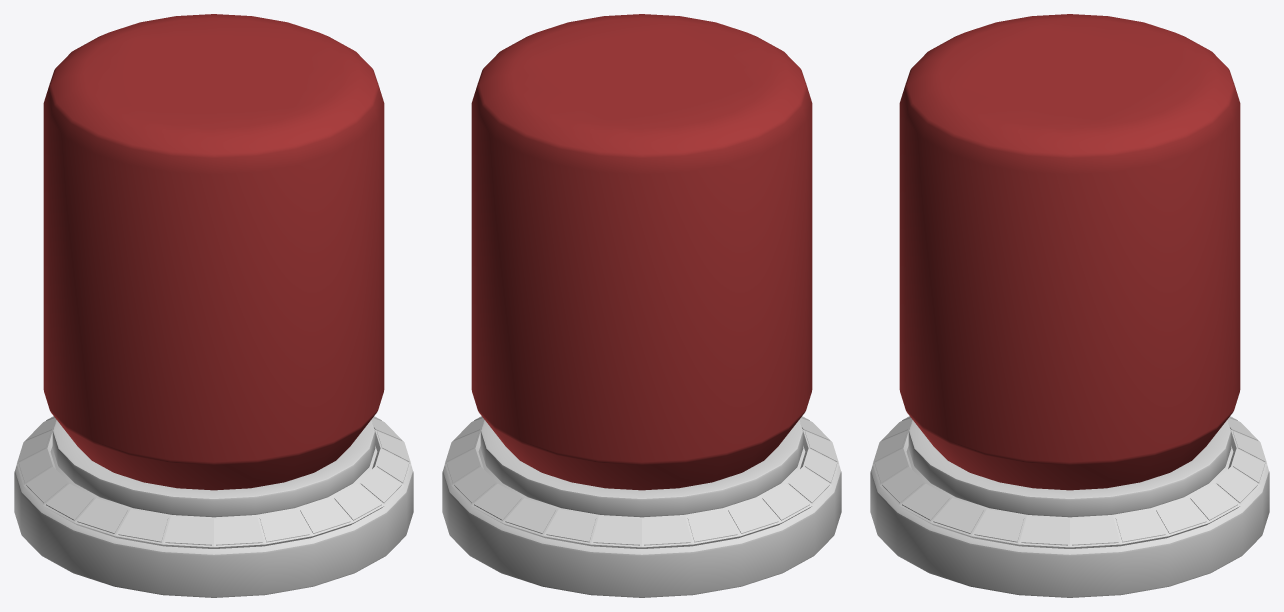
The model's file is SolarAsset04_BotanyLab.fbx.
The picture shows the model from 3 angles, left to right: view 1: azimuth 30°, elevation 25°; view 2: azimuth 150°, elevation 25°; view 3: azimuth 270°, elevation 25°; orthographic projection.
Parts seen in each view (by area): view 1: Cylinder010, Object001; view 2: Cylinder010, Object001; view 3: Cylinder010, Object001.
Boxes of the visible parts, bbox=[...] form: Cylinder010: bbox=[14, 14, 413, 597]; Object001: bbox=[17, 416, 410, 548]; Cylinder010: bbox=[442, 14, 841, 597]; Object001: bbox=[445, 416, 838, 548]; Cylinder010: bbox=[870, 14, 1269, 597]; Object001: bbox=[873, 416, 1266, 548].
Bounding box in the file's own units: 62.9 × 76.67 × 62.9.
